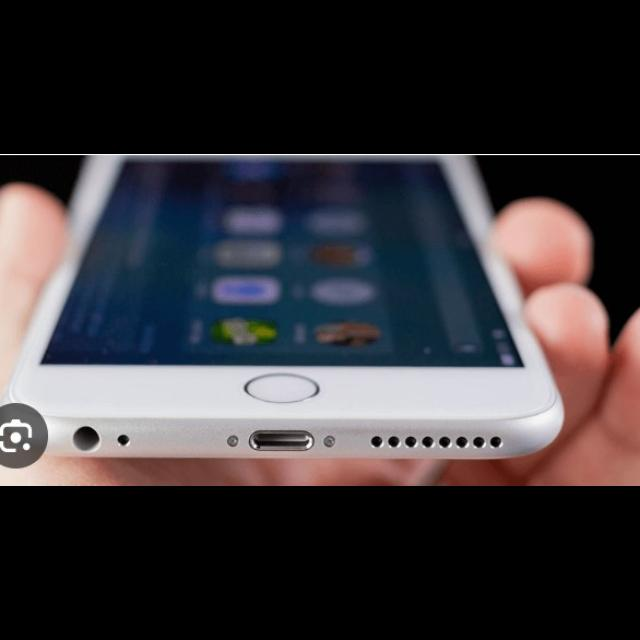Smartphone: (0, 156, 567, 470)
